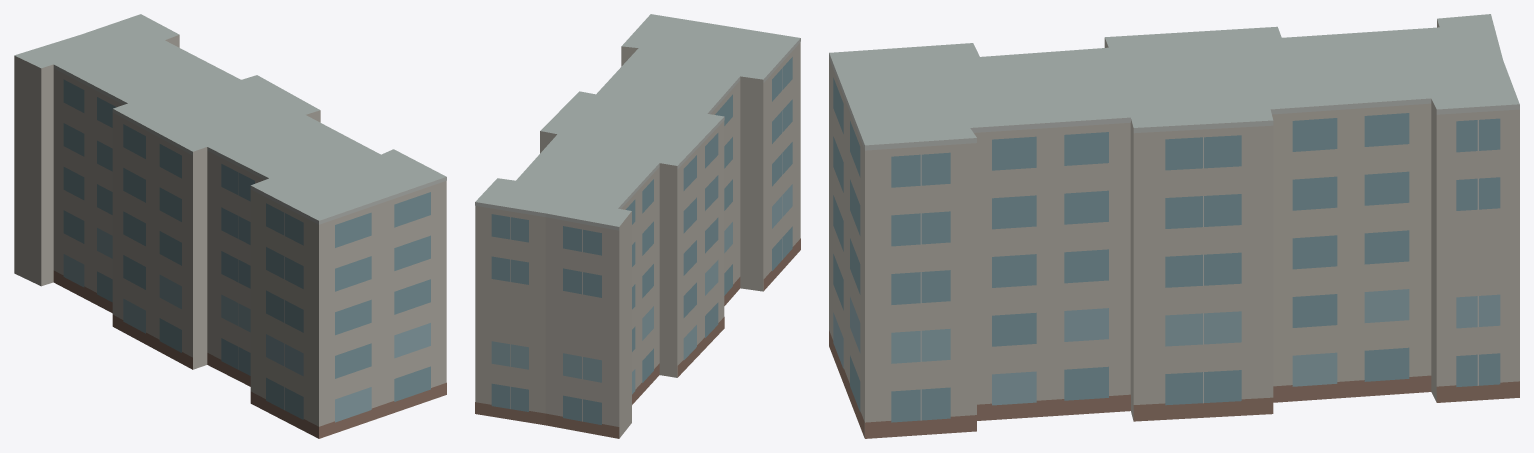
The model's file is survey-upis-32575360.glb.
The picture shows the model from 3 angles, left to right: view 1: azimuth 30°, elevation 25°; view 2: azimuth 150°, elevation 25°; view 3: azimuth 270°, elevation 25°; orthographic projection. The views are drawn at different scales.
Visible parts, largest first — view 1: survey-upis-32575360.tmp; view 2: survey-upis-32575360.tmp; view 3: survey-upis-32575360.tmp.
Boxes of the visible parts, bbox=[...] form: survey-upis-32575360.tmp: bbox=[14, 14, 446, 438]; survey-upis-32575360.tmp: bbox=[475, 14, 800, 438]; survey-upis-32575360.tmp: bbox=[829, 14, 1519, 438].
Size of the model in its own units: 13.26 by 13.8 by 29.45.
